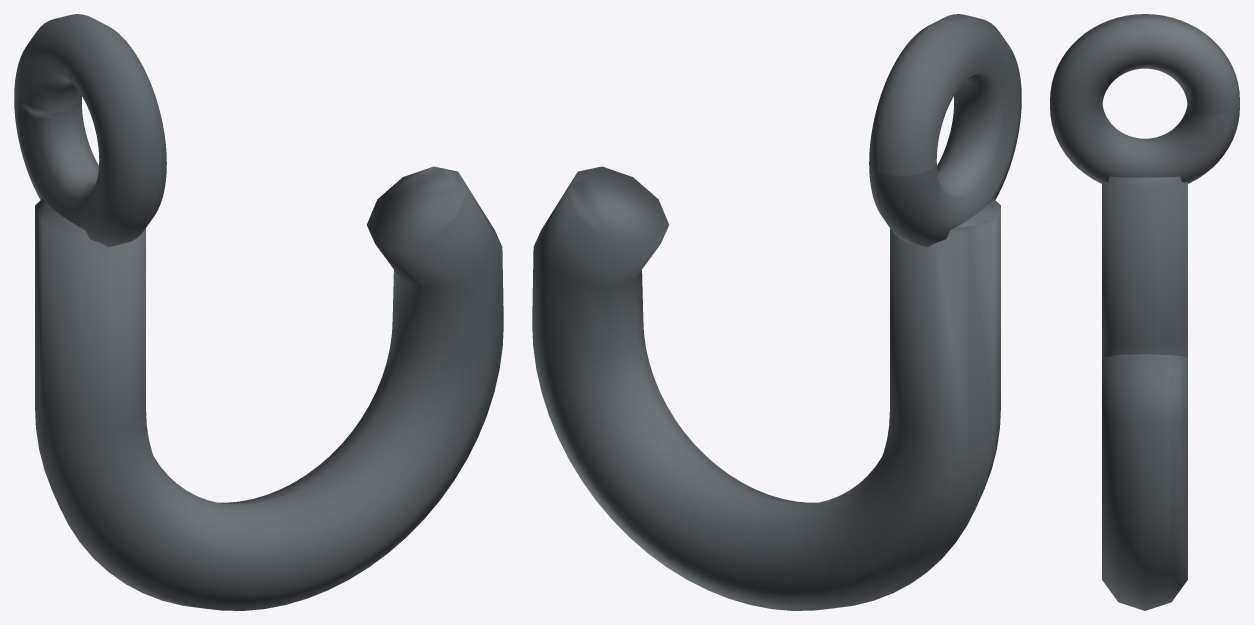
The model's file is terminal.hoist.r02.hook.glb.
3 renders of one model, left to right at view 1: azimuth 30°, elevation 25°; view 2: azimuth 150°, elevation 25°; view 3: azimuth 270°, elevation 25°, orthographic. The views are drawn at different scales.
Parts seen in each view (by area): view 1: terminal.hoist.r02.hook; view 2: terminal.hoist.r02.hook; view 3: terminal.hoist.r02.hook.
Part boxes in pixels (x1,y1,x2,y2): terminal.hoist.r02.hook: [14, 14, 503, 610]; terminal.hoist.r02.hook: [532, 14, 1021, 610]; terminal.hoist.r02.hook: [1050, 14, 1239, 610].
Bounding box in the file's own units: 0.216 × 0.2823 × 0.0966.
1 material, 1 textured.
